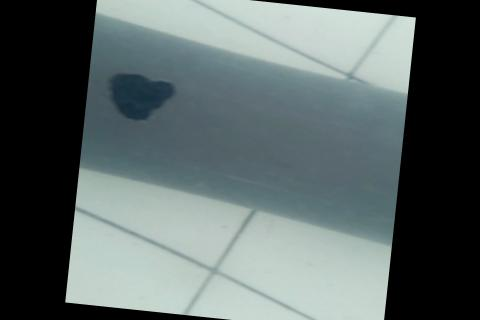kebocoran: (103, 69, 178, 126)
